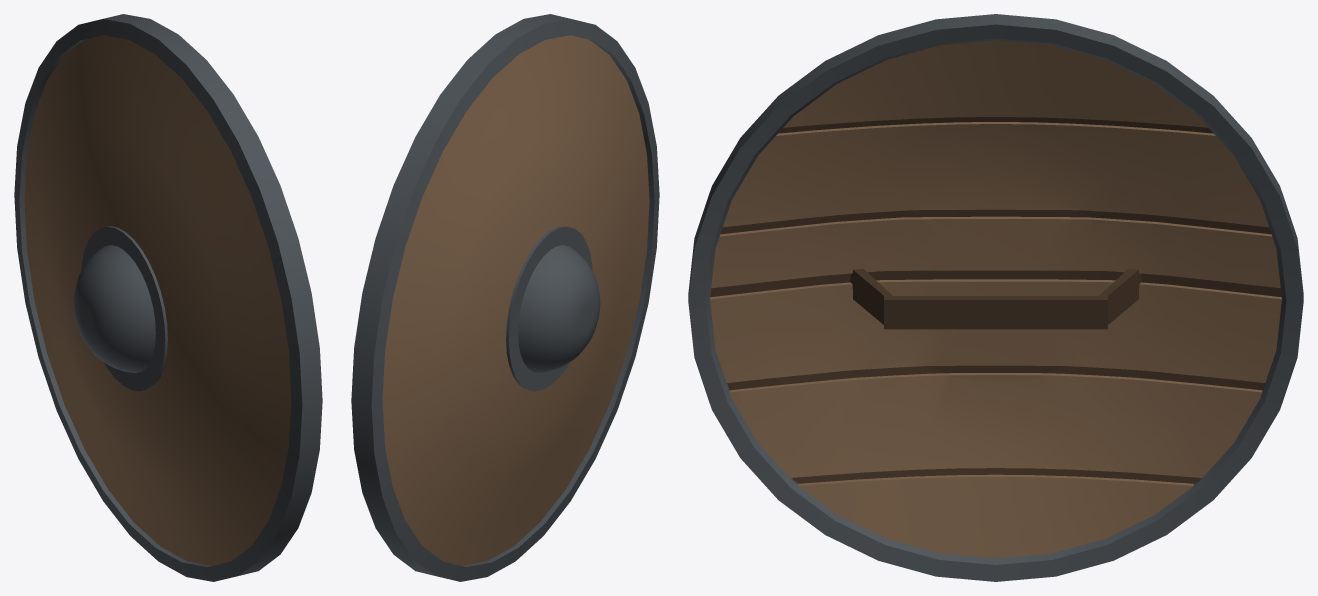
The model's file is wooden_round_shield.gltf.
The picture shows the model from 3 angles, left to right: view 1: azimuth 30°, elevation 25°; view 2: azimuth 150°, elevation 25°; view 3: azimuth 270°, elevation 25°; orthographic projection. The views are drawn at different scales.
Visible parts, largest first — view 1: Circle; view 2: Circle; view 3: Circle.
Part boxes in pixels (left/top/right/bottom): Circle: left=14, top=14, right=322, bottom=581; Circle: left=351, top=14, right=659, bottom=581; Circle: left=688, top=14, right=1303, bottom=581.
Bounding box in the file's own units: 0.0841 × 0.369 × 0.369.
